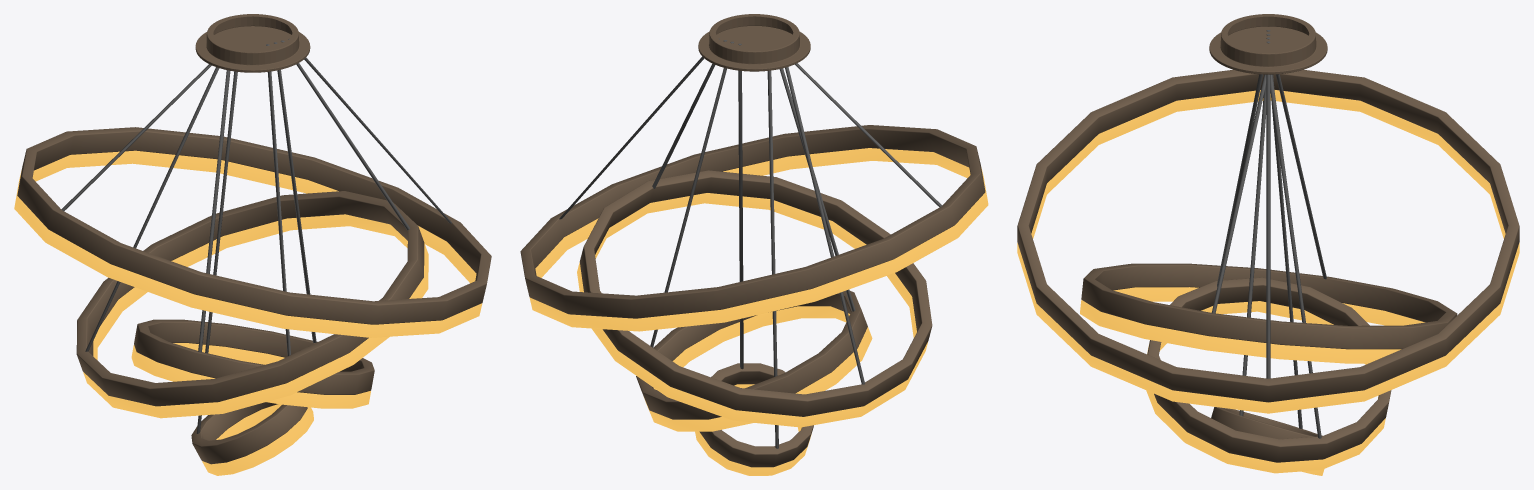
The model's file is LedLight.glb.
3 renders of one model, left to right at view 1: azimuth 30°, elevation 25°; view 2: azimuth 150°, elevation 25°; view 3: azimuth 270°, elevation 25°, orthographic. The views are drawn at different scales.
Parts seen in each view (by area): view 1: Led_Frame, Led_Chips, Threads, Ceiling_Holder; view 2: Led_Frame, Led_Chips, Threads, Ceiling_Holder; view 3: Led_Frame, Led_Chips, Threads, Ceiling_Holder.
Part boxes in pixels (<box>): Led_Frame: <box>17,127,491,464</box>; Led_Chips: <box>14,150,482,475</box>; Threads: <box>61,38,451,433</box>; Ceiling_Holder: <box>195,14,310,72</box>; Led_Frame: <box>520,125,985,467</box>; Led_Chips: <box>529,148,988,475</box>; Threads: <box>559,38,942,448</box>; Ceiling_Holder: <box>698,14,810,71</box>; Led_Frame: <box>1017,69,1519,462</box>; Led_Chips: <box>1017,90,1519,475</box>; Threads: <box>1211,30,1326,438</box>; Ceiling_Holder: <box>1209,14,1327,74</box>.
Bounding box in the file's own units: 0.8085 × 0.8073 × 0.8208.
